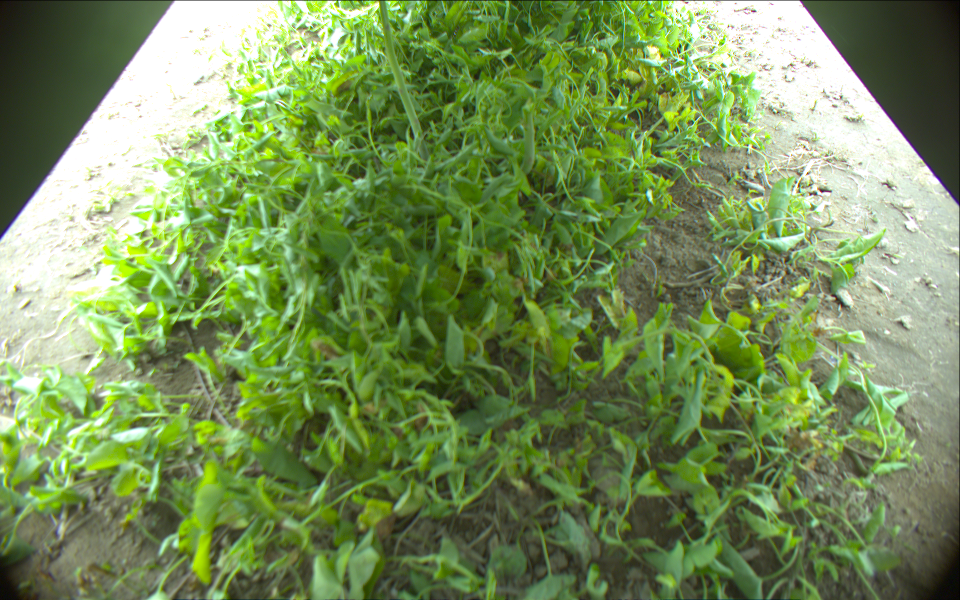aspa: (379, 1, 429, 162), (514, 106, 538, 184)
